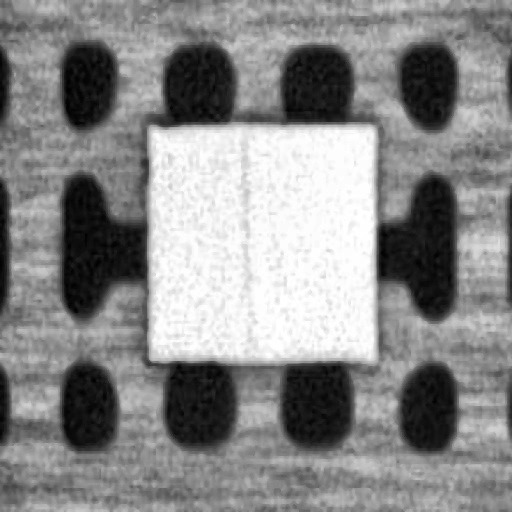DIE_CRACK: (232, 125, 259, 342)
